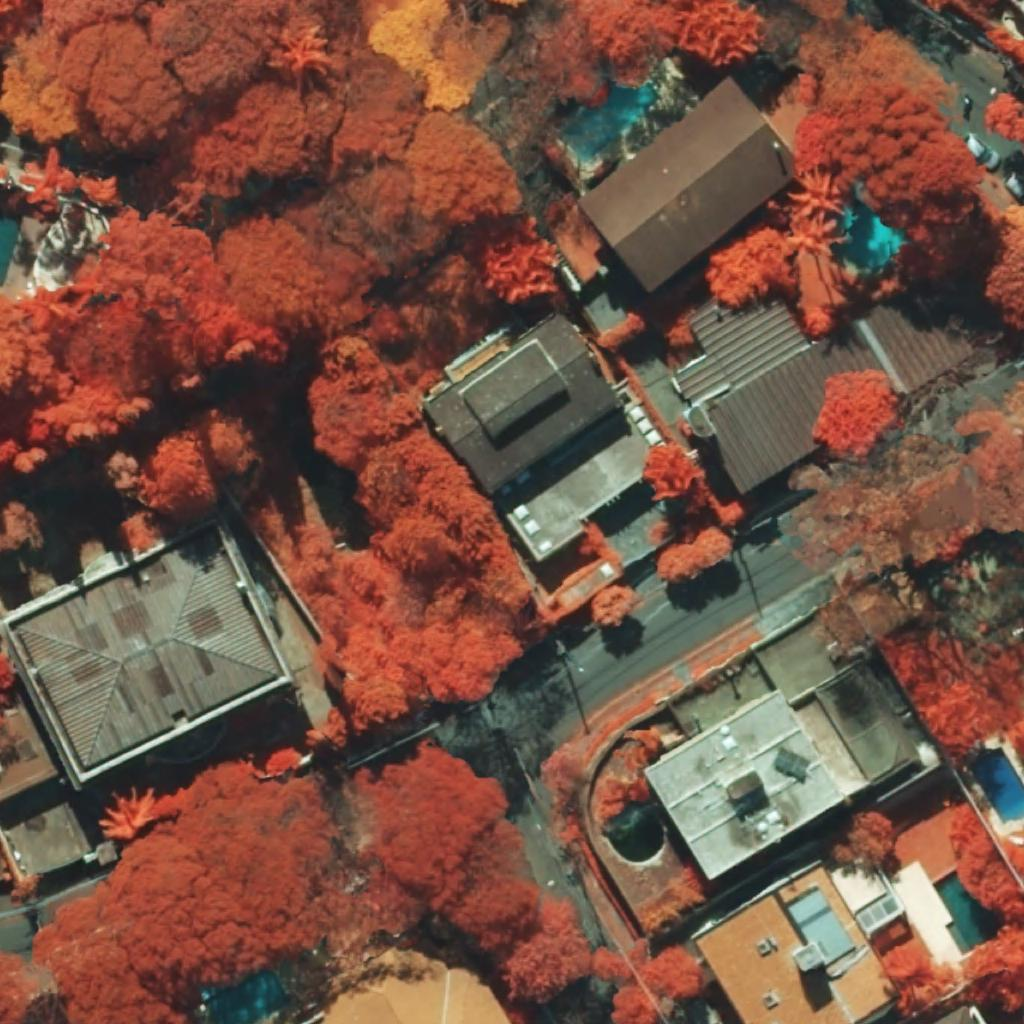pool: (559, 82, 662, 162), (933, 869, 1005, 956), (201, 968, 291, 1024), (839, 196, 908, 269), (970, 747, 1024, 824), (607, 812, 664, 863), (0, 209, 21, 287)
